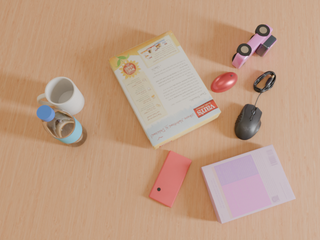book: (201, 145, 295, 224)
bottle: (37, 105, 87, 147)
box: (108, 30, 221, 150)
cup: (37, 77, 84, 115)
mouse: (235, 104, 262, 140), (211, 72, 238, 93)
phone: (149, 151, 191, 207)
toy_car: (232, 24, 277, 69)
